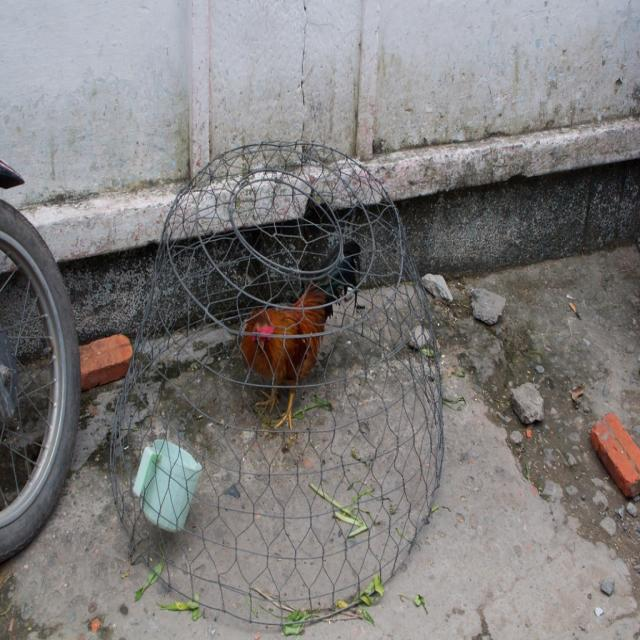Chicken: (241, 242, 360, 429)
